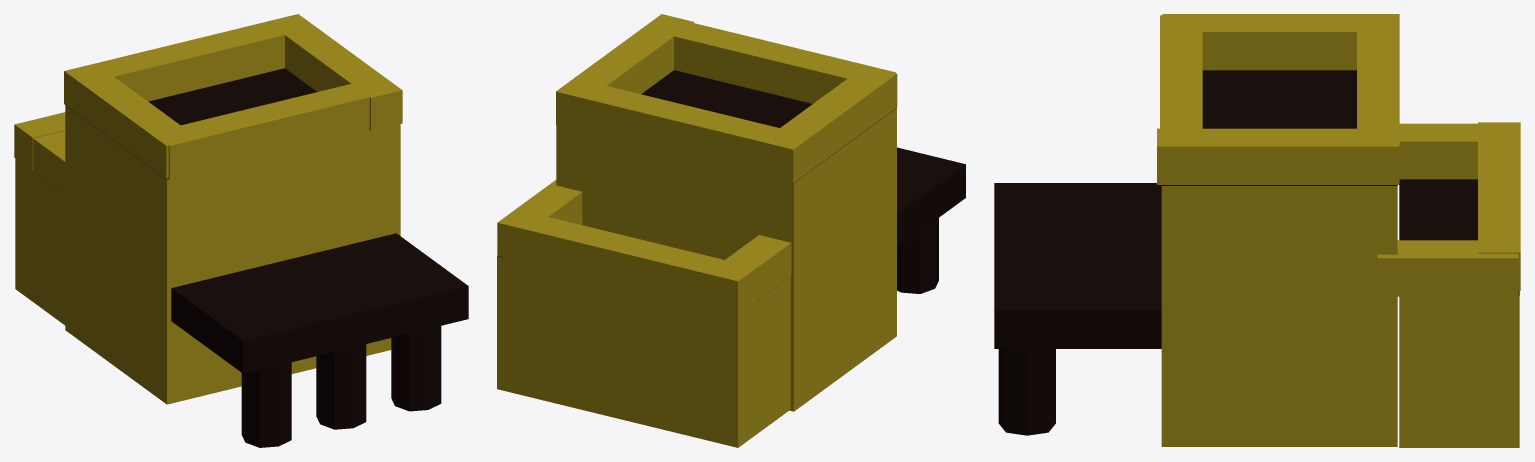
The model's file is dock1.obj.
3 renders of one model, left to right at view 1: azimuth 30°, elevation 25°; view 2: azimuth 150°, elevation 25°; view 3: azimuth 270°, elevation 25°, orthographic. The views are drawn at different scales.
Visible parts, largest first — view 1: Cube.004, Cube.003, Cube.005, Cube.007, Cube.006, Cube.009, Cube.008, Cube, Cube.001, Cube.002, Cube.012, Cube.010; view 2: Cube.004, Cube.009, Cube.010, Cube.007, Cube.005, Cube.006, Cube.008, Cube.003, Cube.002, Cube.012, Cube.011; view 3: Cube.004, Cube.003, Cube.009, Cube.008, Cube.006, Cube.011, Cube.010, Cube.005, Cube.007, Cube.001, Cube.012.
Boxes of the visible parts, x1=… form: Cube.004: x1=65, y1=68, x2=400, y2=404; Cube.003: x1=171, y1=233, x2=468, y2=373; Cube.005: x1=152, y1=77, x2=398, y2=178; Cube.007: x1=67, y1=14, x2=314, y2=101; Cube.006: x1=64, y1=63, x2=197, y2=178; Cube.009: x1=15, y1=158, x2=65, y2=325; Cube.008: x1=267, y1=14, x2=402, y2=130; Cube: x1=316, y1=344, x2=366, y2=429; Cube.001: x1=391, y1=326, x2=441, y2=411; Cube.002: x1=241, y1=362, x2=291, y2=447; Cube.012: x1=33, y1=131, x2=65, y2=193; Cube.010: x1=14, y1=112, x2=65, y2=170; Cube.004: x1=556, y1=70, x2=896, y2=411; Cube.009: x1=497, y1=255, x2=790, y2=447; Cube.010: x1=504, y1=211, x2=756, y2=314; Cube.007: x1=557, y1=78, x2=779, y2=175; Cube.005: x1=644, y1=15, x2=895, y2=103; Cube.006: x1=761, y1=68, x2=897, y2=183; Cube.008: x1=556, y1=14, x2=693, y2=125; Cube.003: x1=897, y1=147, x2=965, y2=247; Cube.002: x1=897, y1=218, x2=938, y2=293; Cube.012: x1=725, y1=235, x2=791, y2=300; Cube.011: x1=497, y1=180, x2=582, y2=257; Cube.004: x1=1161, y1=70, x2=1397, y2=446; Cube.003: x1=994, y1=183, x2=1161, y2=348; Cube.009: x1=1399, y1=179, x2=1519, y2=447; Cube.008: x1=1157, y1=128, x2=1399, y2=184; Cube.006: x1=1162, y1=14, x2=1399, y2=70; Cube.011: x1=1377, y1=240, x2=1518, y2=296; Cube.010: x1=1478, y1=122, x2=1520, y2=290; Cube.005: x1=1160, y1=15, x2=1202, y2=145; Cube.007: x1=1357, y1=15, x2=1399, y2=183; Cube.001: x1=998, y1=349, x2=1055, y2=435; Cube.012: x1=1399, y1=123, x2=1477, y2=179.
Size of the model in its own units: 15.16 by 15.63 by 24.76.
